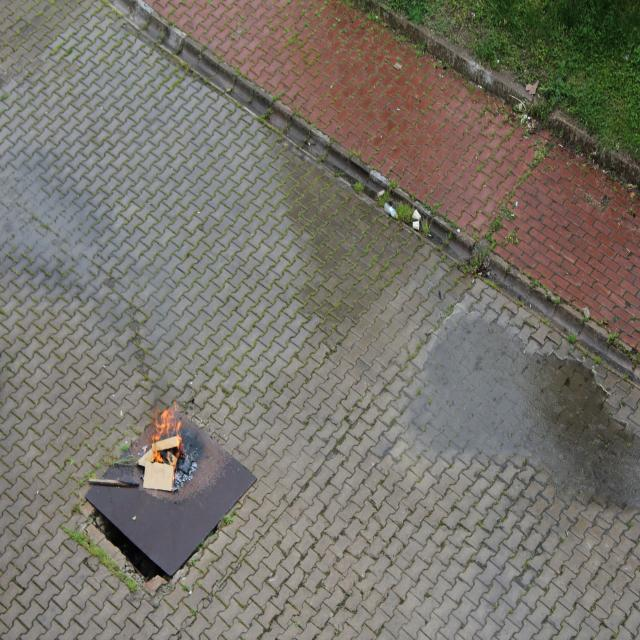fire: (136, 392, 185, 467)
